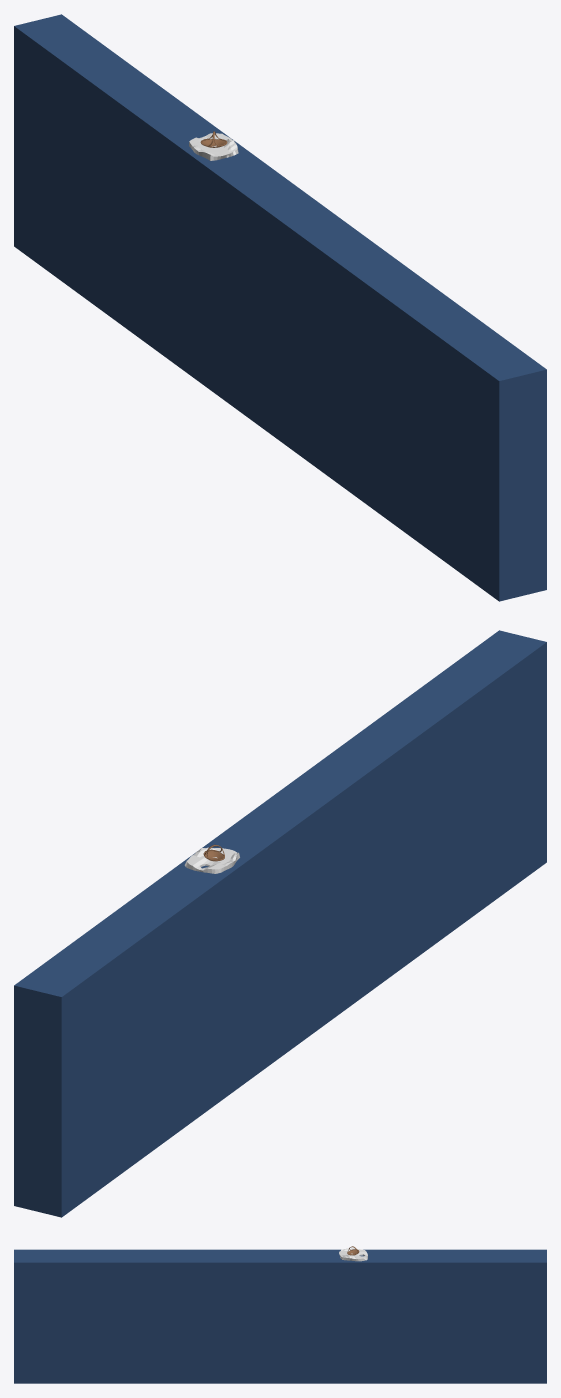
File: FishingScene.gltf
3 renders of one model, top to bottom at view 1: azimuth 30°, elevation 25°; view 2: azimuth 150°, elevation 25°; view 3: azimuth 270°, elevation 25°, orthographic. The views are drawn at different scales.
Visible parts, largest first — view 1: Water, Plane.002; view 2: Water, Plane.002; view 3: Water, Plane.002.
Boxes of the visible parts, bbox=[...] form: Water: bbox=[14, 14, 546, 601]; Plane.002: bbox=[189, 133, 238, 160]; Water: bbox=[14, 630, 546, 1217]; Plane.002: bbox=[184, 847, 239, 873]; Water: bbox=[14, 1249, 546, 1383]; Plane.002: bbox=[339, 1248, 367, 1261].
Size of the model in its own units: 3.3 by 15.71 by 58.16.
